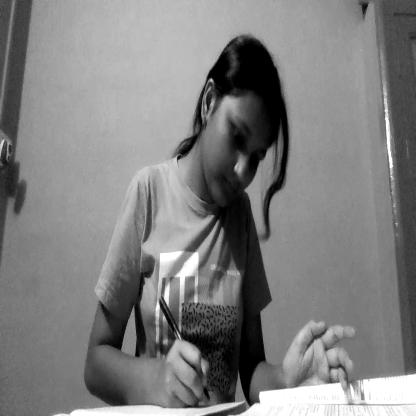Distracted: (203, 82, 273, 212)
